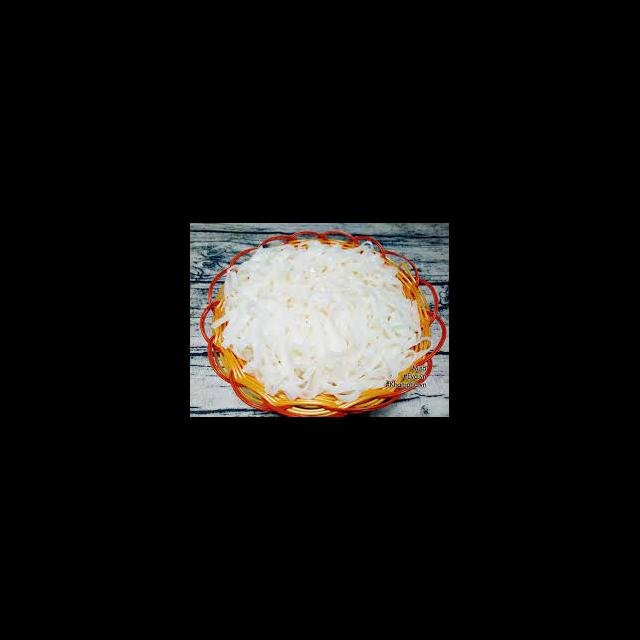noodles: (238, 245, 408, 392)
